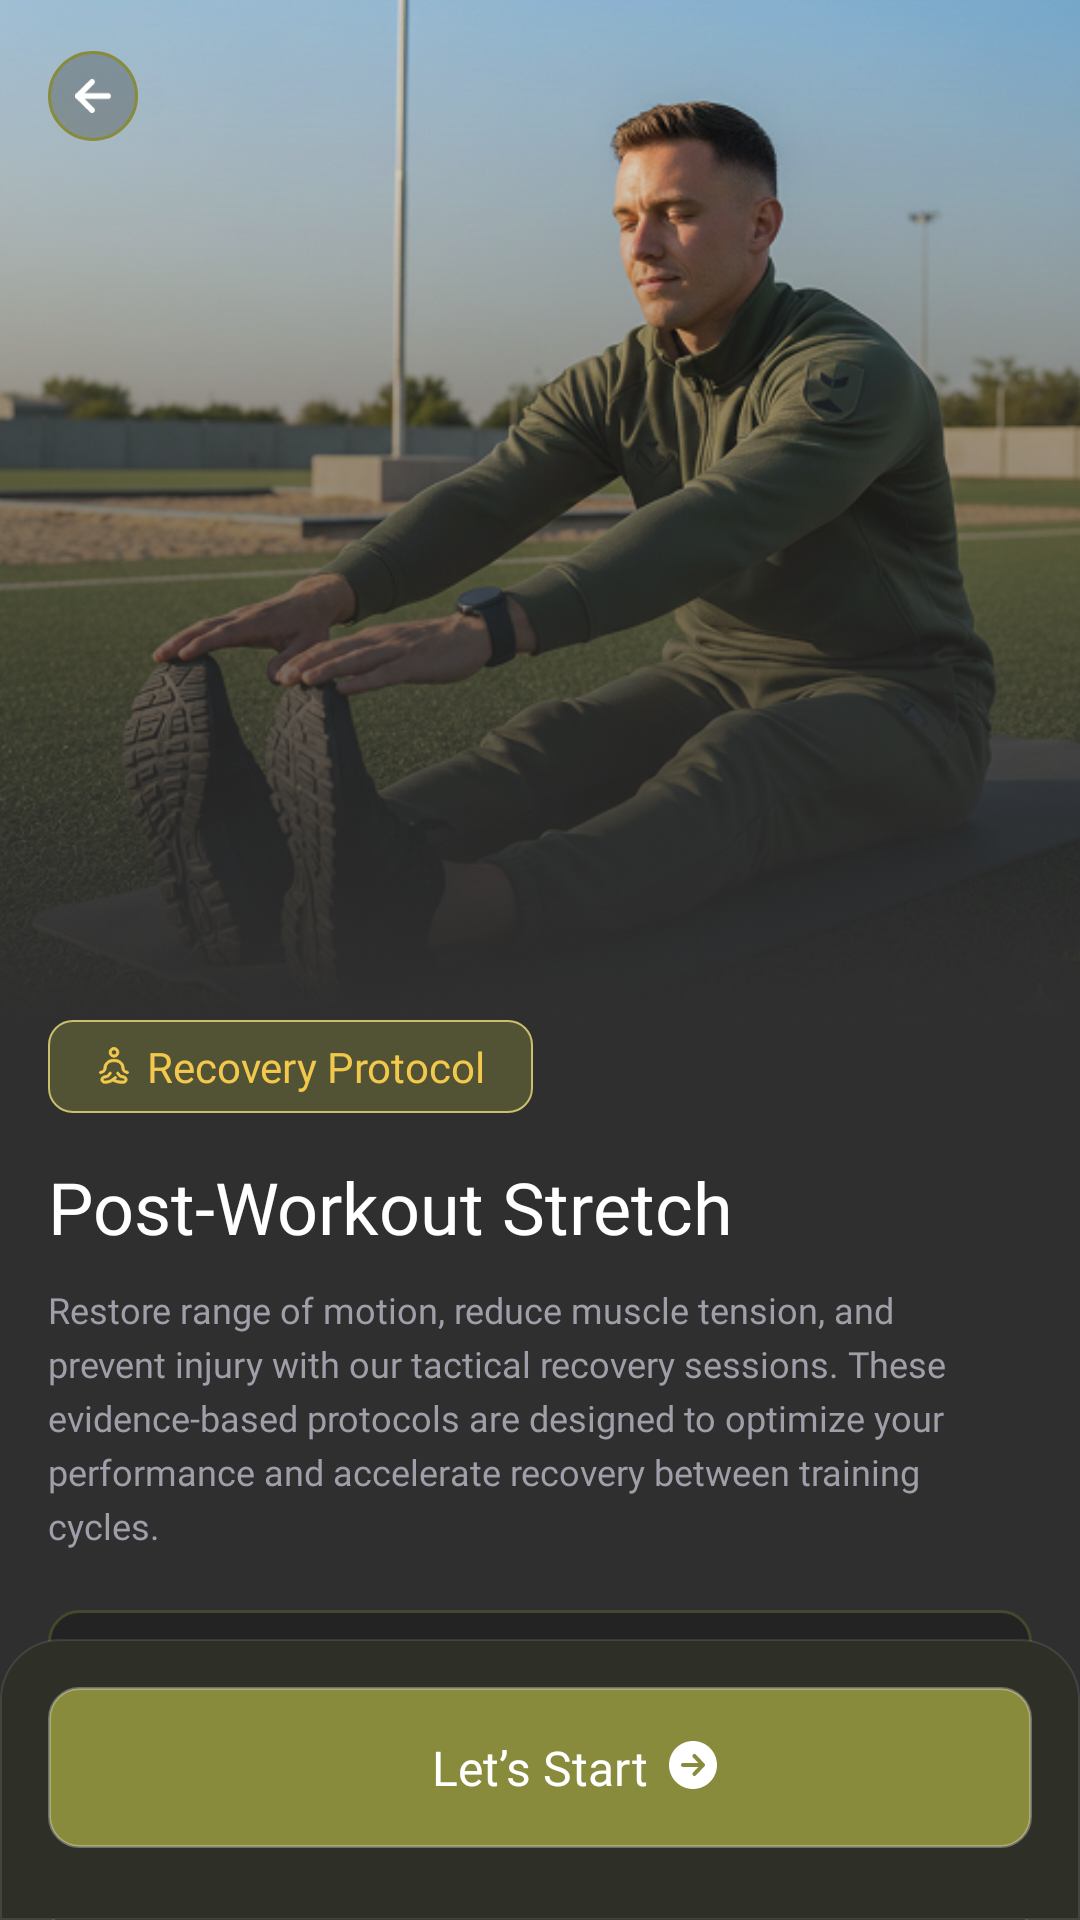

Where to tap for icons on this 1080 x 1920 app screen, as (x,y):
back arrow: (93,96)
circle next: (693,1765)
